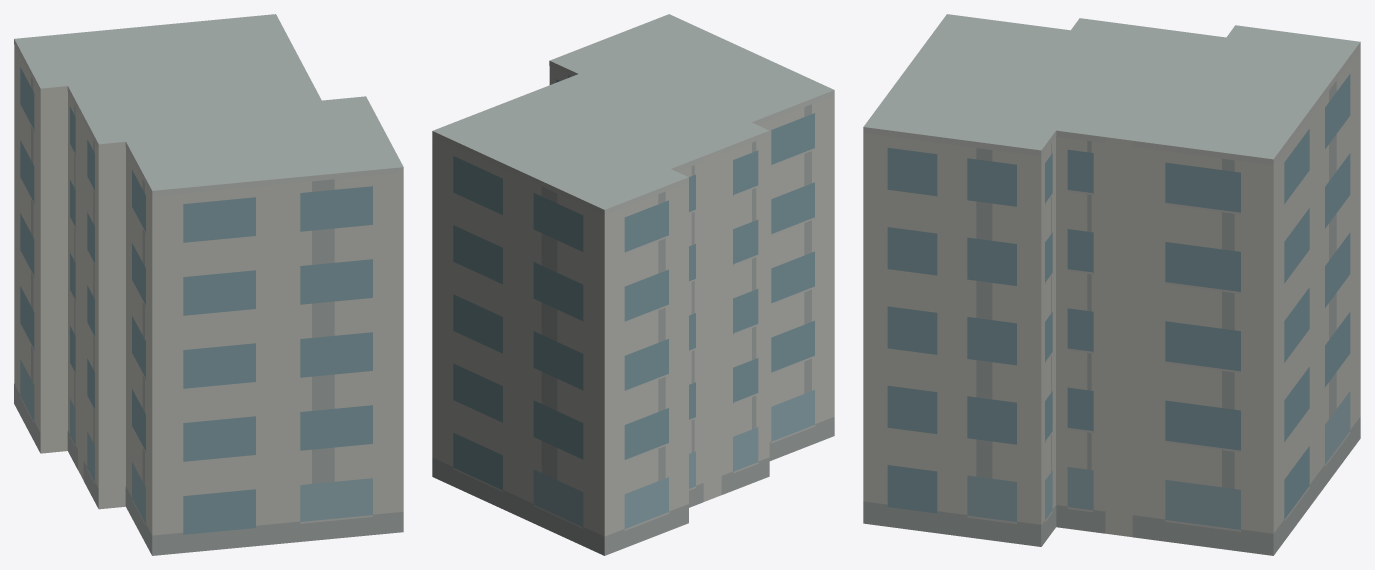
The model's file is survey-upis-32894478.glb.
3 views of the same model, side by side, from view 1: azimuth 30°, elevation 25°; view 2: azimuth 150°, elevation 25°; view 3: azimuth 270°, elevation 25° (orthographic). The views are drawn at different scales.
Parts seen in each view (by area): view 1: survey-upis-32894478.tmp; view 2: survey-upis-32894478.tmp; view 3: survey-upis-32894478.tmp.
Boxes of the visible parts, x1,y1,x2,y2 form: survey-upis-32894478.tmp: (14,14,403,555); survey-upis-32894478.tmp: (432,14,834,555); survey-upis-32894478.tmp: (863,14,1360,555).
Bounding box in the file's own units: 12.43 × 15.8 × 17.97.
